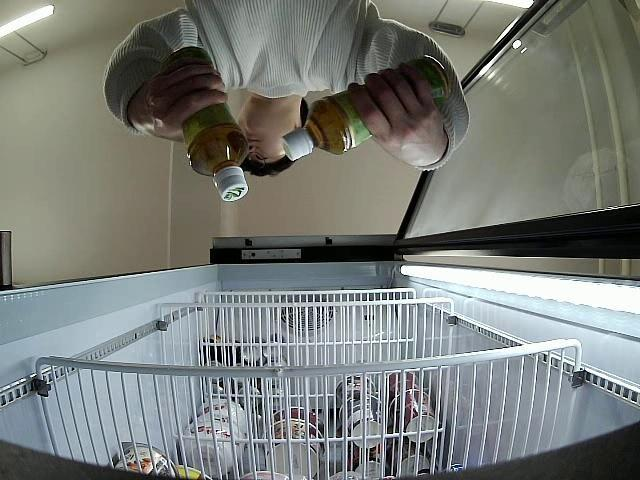19_17cha: (279, 53, 453, 163), (165, 47, 249, 202)
